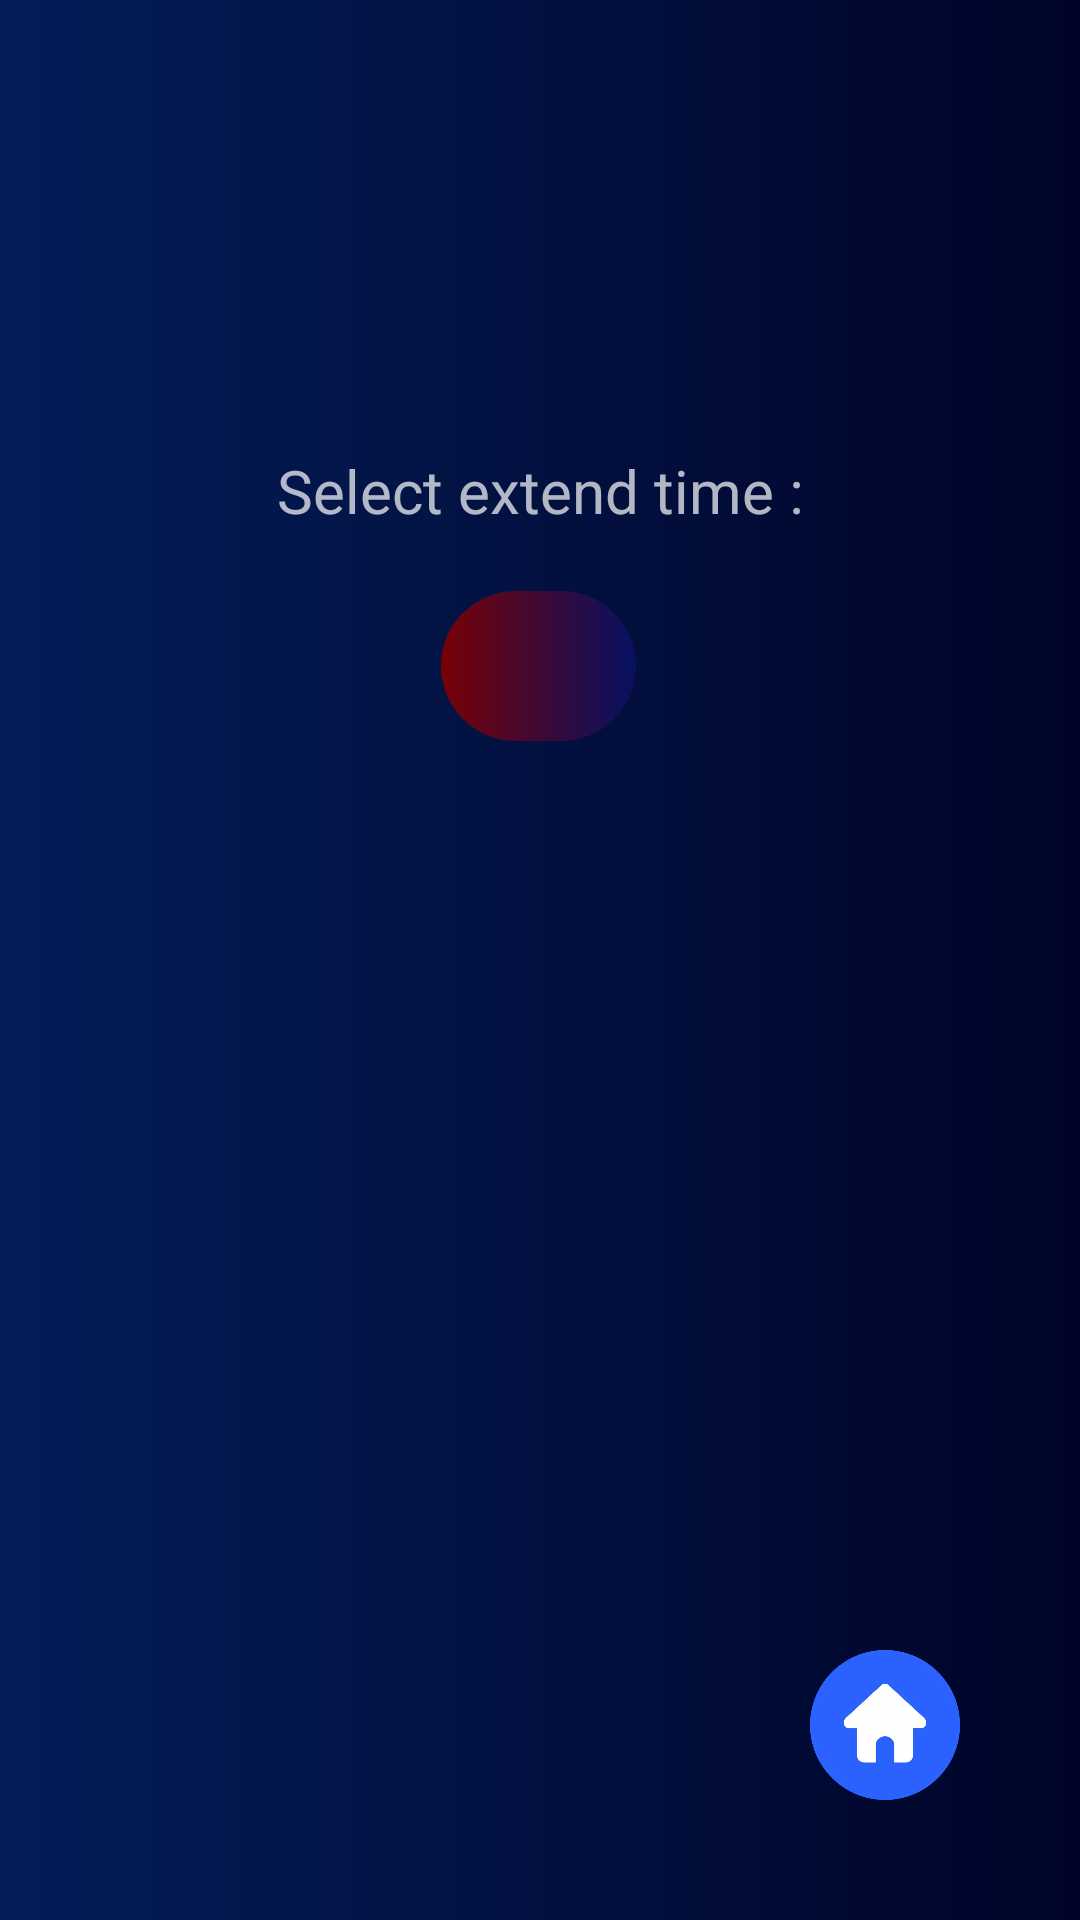

Named icons in this screenshot (1080×1920) and their centers, (x,y):
home: (885,1725)
